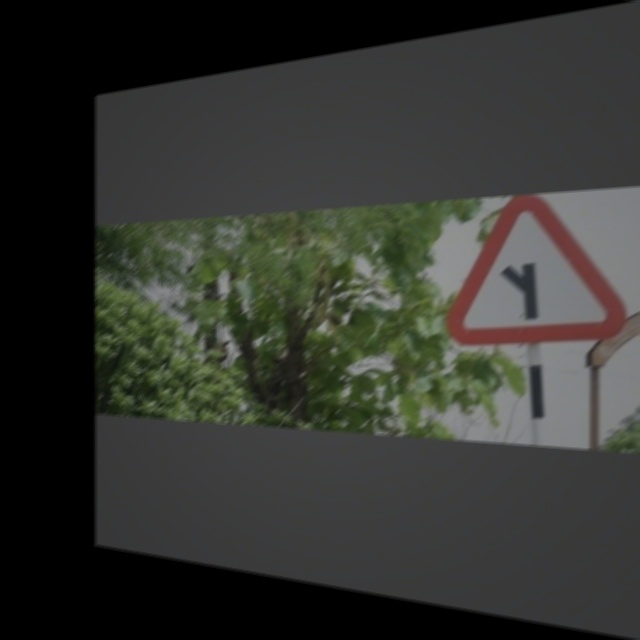Y_Intersection: (451, 192, 615, 345)
